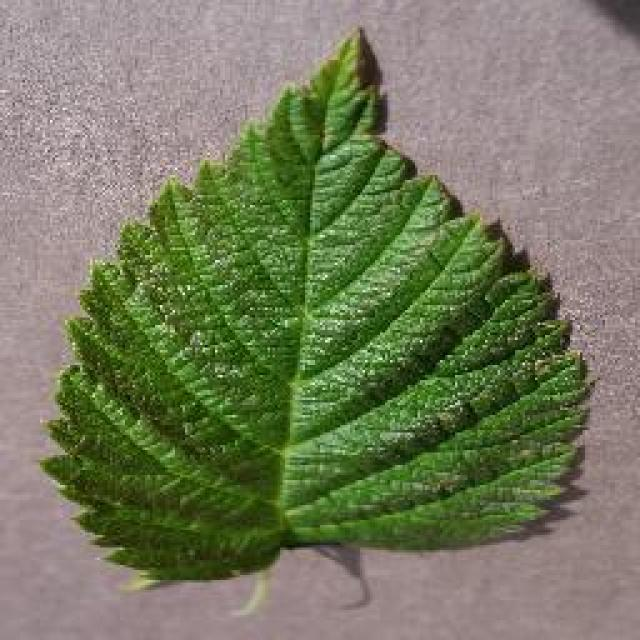Ras_healthy: (75, 96, 579, 564)
